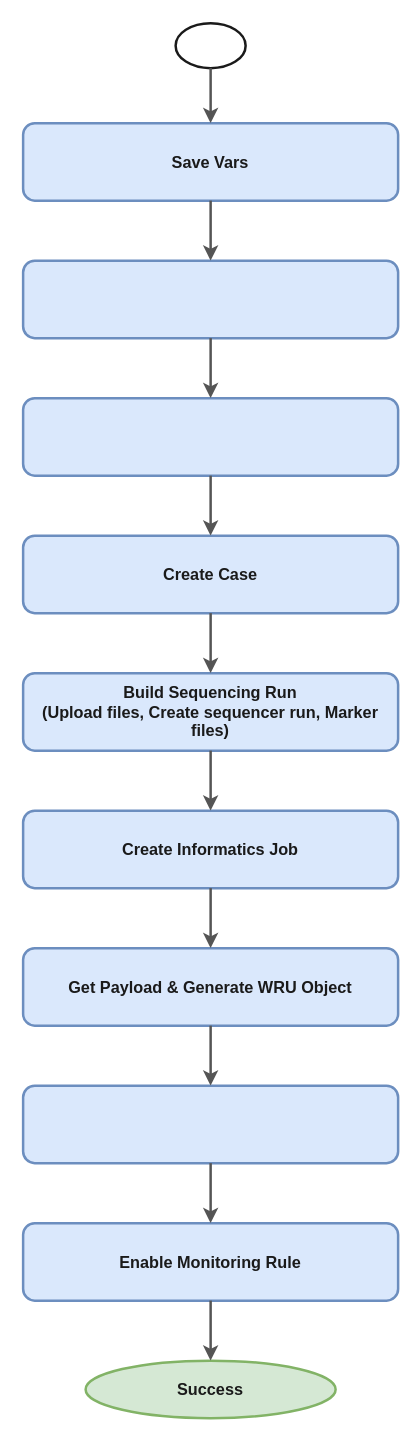
The diagram is 420 pixels wide and 1440 high, and some of its shapes have lost their labels. The box of each missing label's shape, as (x1, y1, x2, y2) in pixels:
Generate PierianDx Objects: (21, 396, 399, 476)
Generate Runnable Event: (21, 1084, 399, 1164)
Get Inputs from SSM (DAG version, Panel name, Sequencer path): (21, 259, 399, 339)
Start: (174, 21, 246, 69)
